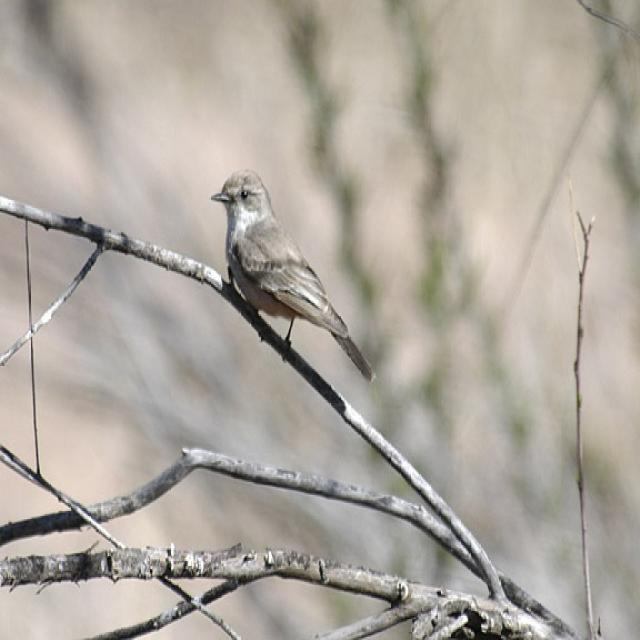bird: (201, 174, 384, 386)
